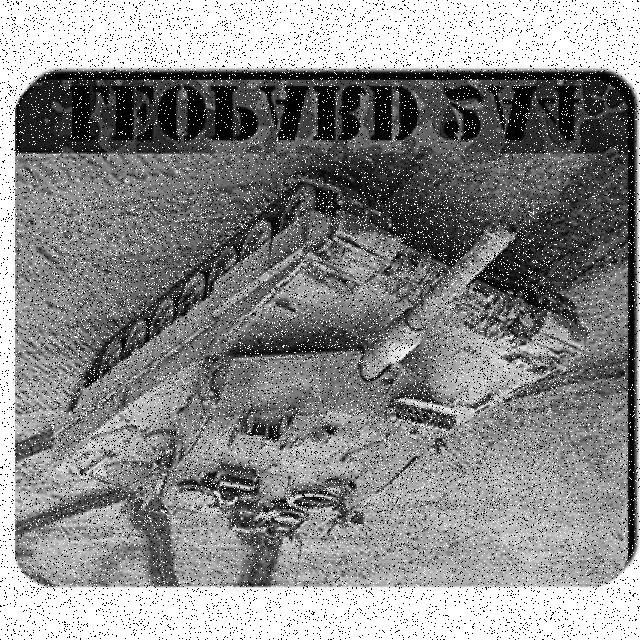MIL_MBT: (52, 197, 556, 526)
